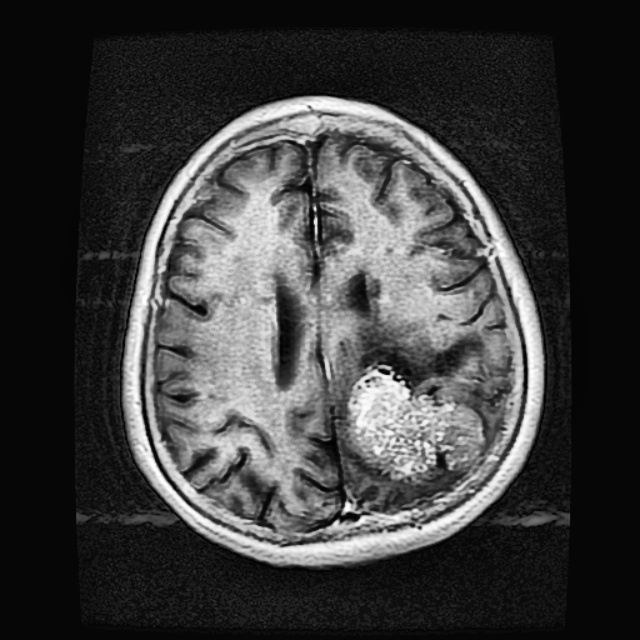Glioma: (349, 368, 483, 479)
